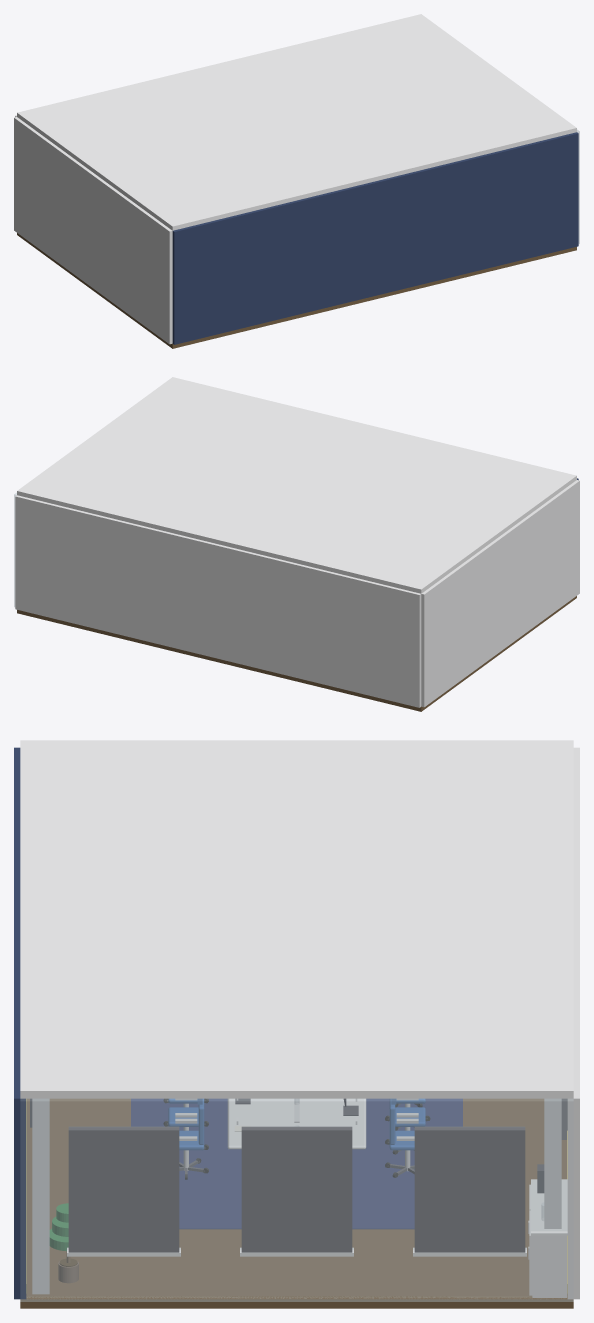
Rendered from meeting-room-finished.glb.
3 views of the same model, one above another, from view 1: azimuth 30°, elevation 25°; view 2: azimuth 150°, elevation 25°; view 3: azimuth 270°, elevation 25° (orthographic). The views are drawn at different scales.
Parts seen in each view (by area): view 1: ARCH_Ceiling, ARCH_Wall_Back, ARCH_Wall_Left, ARCH_Floor; view 2: ARCH_Ceiling, ARCH_Wall_Front, ARCH_Wall_Left, ARCH_Floor; view 3: ARCH_Ceiling, ARCH_Wall_Right, ARCH_Floor, ARCH_Carpet, ARCH_WinFrame_0, ARCH_WinFrame_1, ARCH_WinFrame_2, ARCH_Wall_Back, ARCH_Wall_Front, FURN_Table_Top, ARCH_Pillar_5_-3, ARCH_Pillar_5_3 (+2 smaller).
Part boxes in pixels (x1,y1,x2,y2): ARCH_Ceiling: (17,14,576,230); ARCH_Wall_Back: (172,132,578,344); ARCH_Wall_Left: (14,117,172,344); ARCH_Floor: (17,233,576,348); ARCH_Ceiling: (17,377,576,593); ARCH_Wall_Front: (15,495,421,707); ARCH_Wall_Left: (421,480,579,707); ARCH_Floor: (17,596,576,711); ARCH_Ceiling: (20,740,573,1098); ARCH_Wall_Right: (20,1099,573,1301); ARCH_Floor: (20,1098,573,1308); ARCH_Carpet: (131,1098,462,1229); ARCH_WinFrame_0: (68,1126,179,1252); ARCH_WinFrame_1: (241,1126,352,1252); ARCH_WinFrame_2: (414,1126,525,1252); ARCH_Wall_Back: (14,747,26,1299); ARCH_Wall_Front: (567,747,579,1299); FURN_Table_Top: (227,1098,366,1149); ARCH_Pillar_5_-3: (32,1098,49,1294); ARCH_Pillar_5_3: (544,1098,561,1228).
Bounding box in the file's own units: 12.18 × 3.65 × 8.18.
